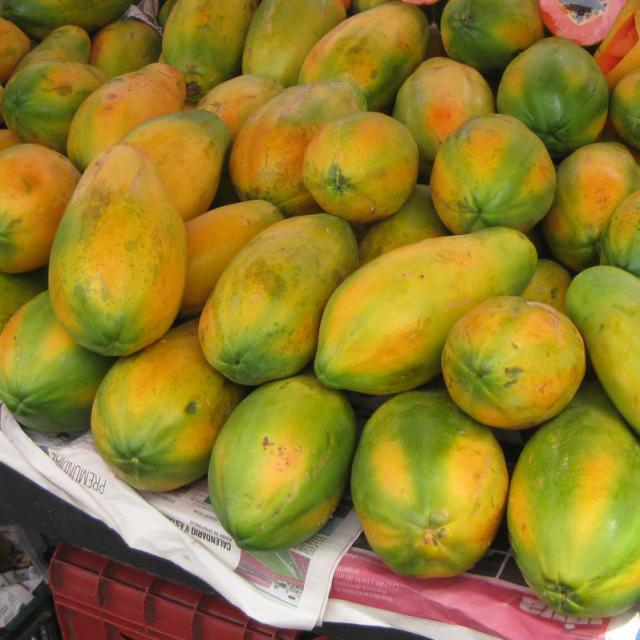Pepaya rippen: (307, 231, 536, 383), (47, 146, 185, 345), (203, 382, 350, 546), (201, 214, 353, 368), (354, 429, 504, 574), (442, 112, 548, 229), (87, 371, 203, 476), (310, 109, 419, 218)
